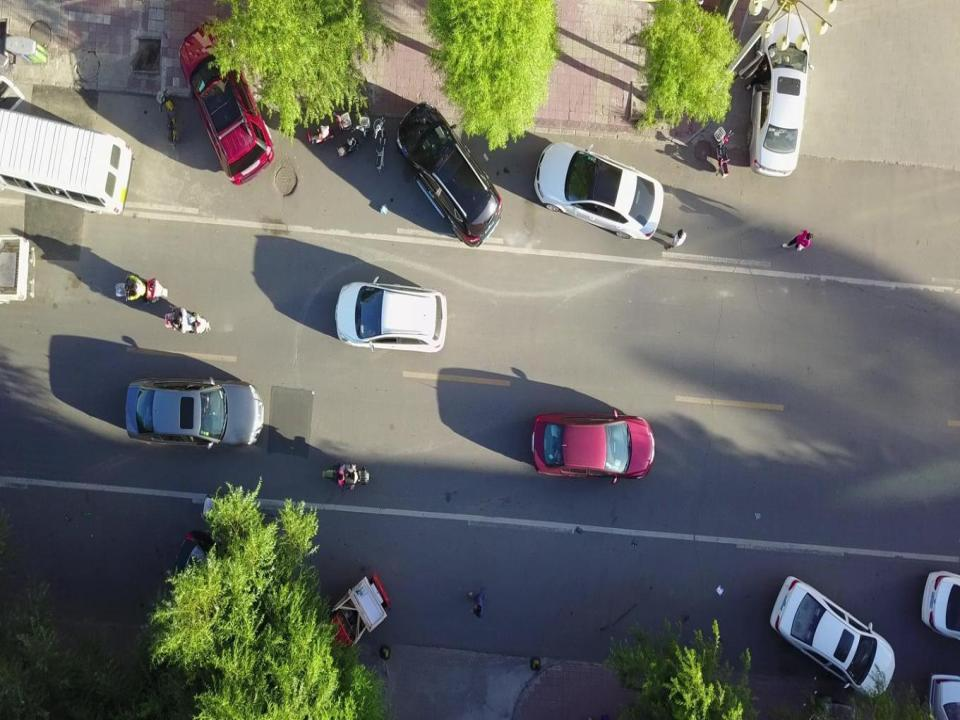car: (175, 19, 277, 185), (394, 102, 503, 251), (767, 575, 896, 697), (0, 102, 134, 218), (532, 137, 664, 244), (749, 10, 815, 180), (124, 375, 265, 451), (528, 408, 654, 485), (333, 280, 447, 356), (318, 571, 389, 653), (175, 526, 245, 602), (918, 566, 960, 637), (929, 664, 960, 718)
